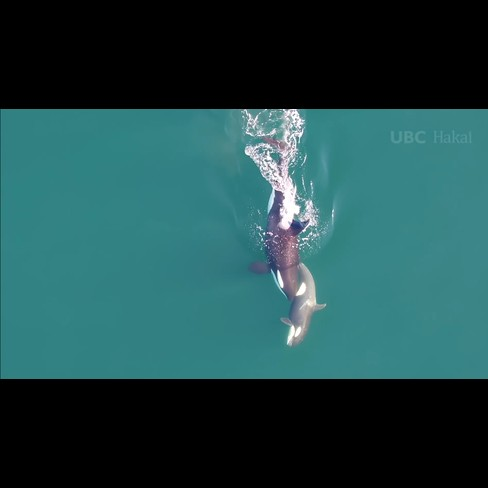orca: (250, 119, 309, 305), (281, 240, 324, 351)
